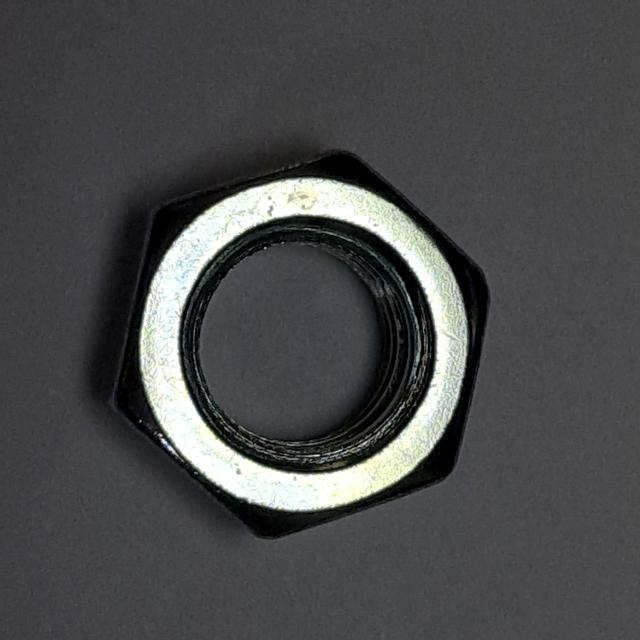Excellent: (89, 128, 510, 559)
